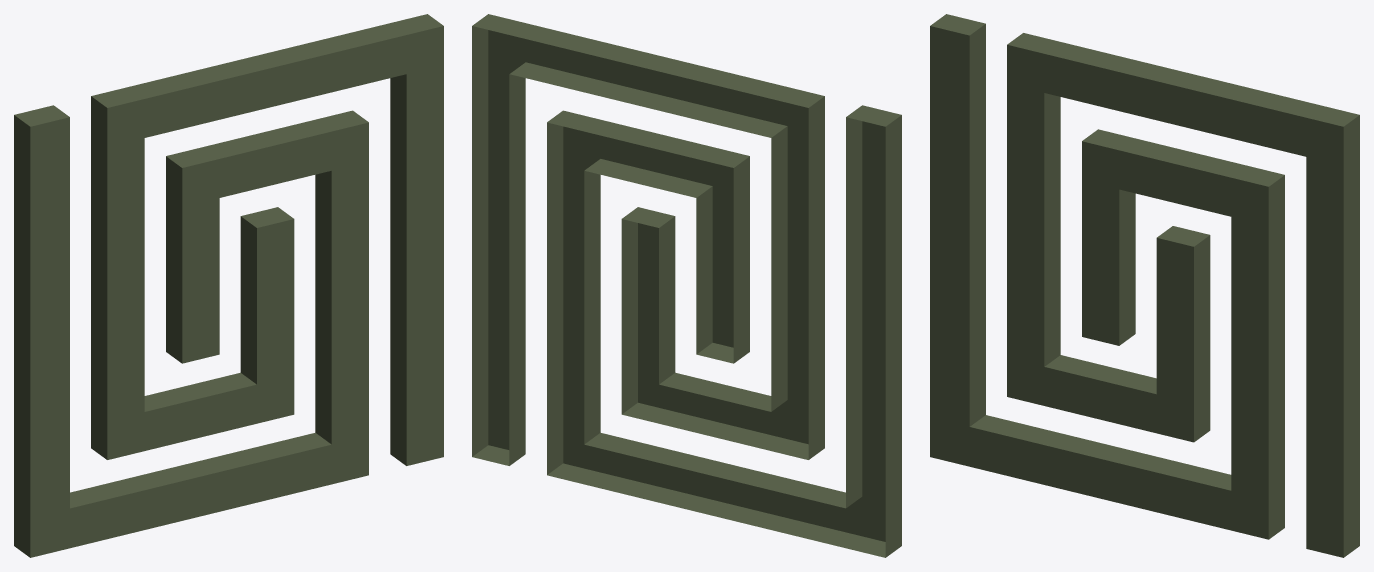
File: decorbig.fbx
The picture shows the model from 3 angles, left to right: view 1: azimuth 30°, elevation 25°; view 2: azimuth 150°, elevation 25°; view 3: azimuth 330°, elevation 25°; orthographic projection.
Parts seen in each view (by area): view 1: decorbig; view 2: decorbig; view 3: decorbig.
Part boxes in pixels (<box>): decorbig: <box>14,14,443,557</box>; decorbig: <box>472,14,901,557</box>; decorbig: <box>930,14,1359,557</box>.
Size of the model in its own units: 1.08 by 1.08 by 0.0738.
